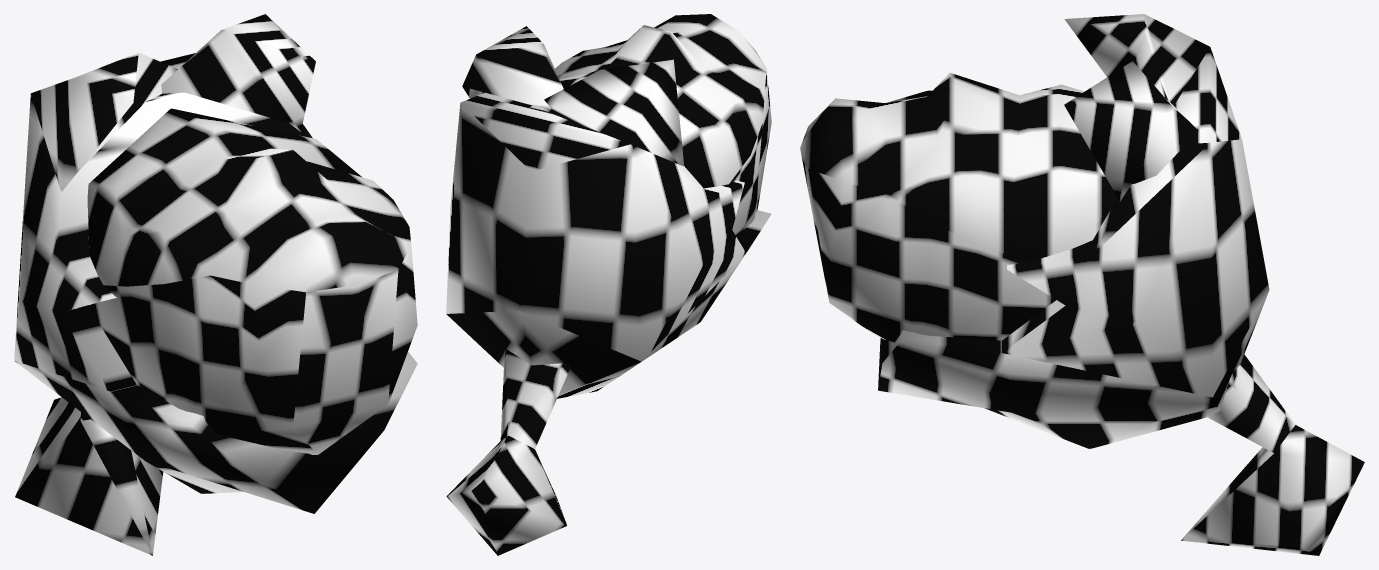
Rendered from infaunhufefa4.dae.
The picture shows the model from 3 angles, left to right: view 1: azimuth 30°, elevation 25°; view 2: azimuth 150°, elevation 25°; view 3: azimuth 270°, elevation 25°; orthographic projection. The views are drawn at different scales.
Parts seen in each view (by area): view 1: face; view 2: face; view 3: face.
Boxes of the visible parts, x1=… form: face: x1=14, y1=14, x2=417, y2=555; face: x1=446, y1=14, x2=771, y2=555; face: x1=800, y1=14, x2=1364, y2=555.
Size of the model in its own units: 1.08 by 1.83 by 1.84.
1 material, 1 textured.
